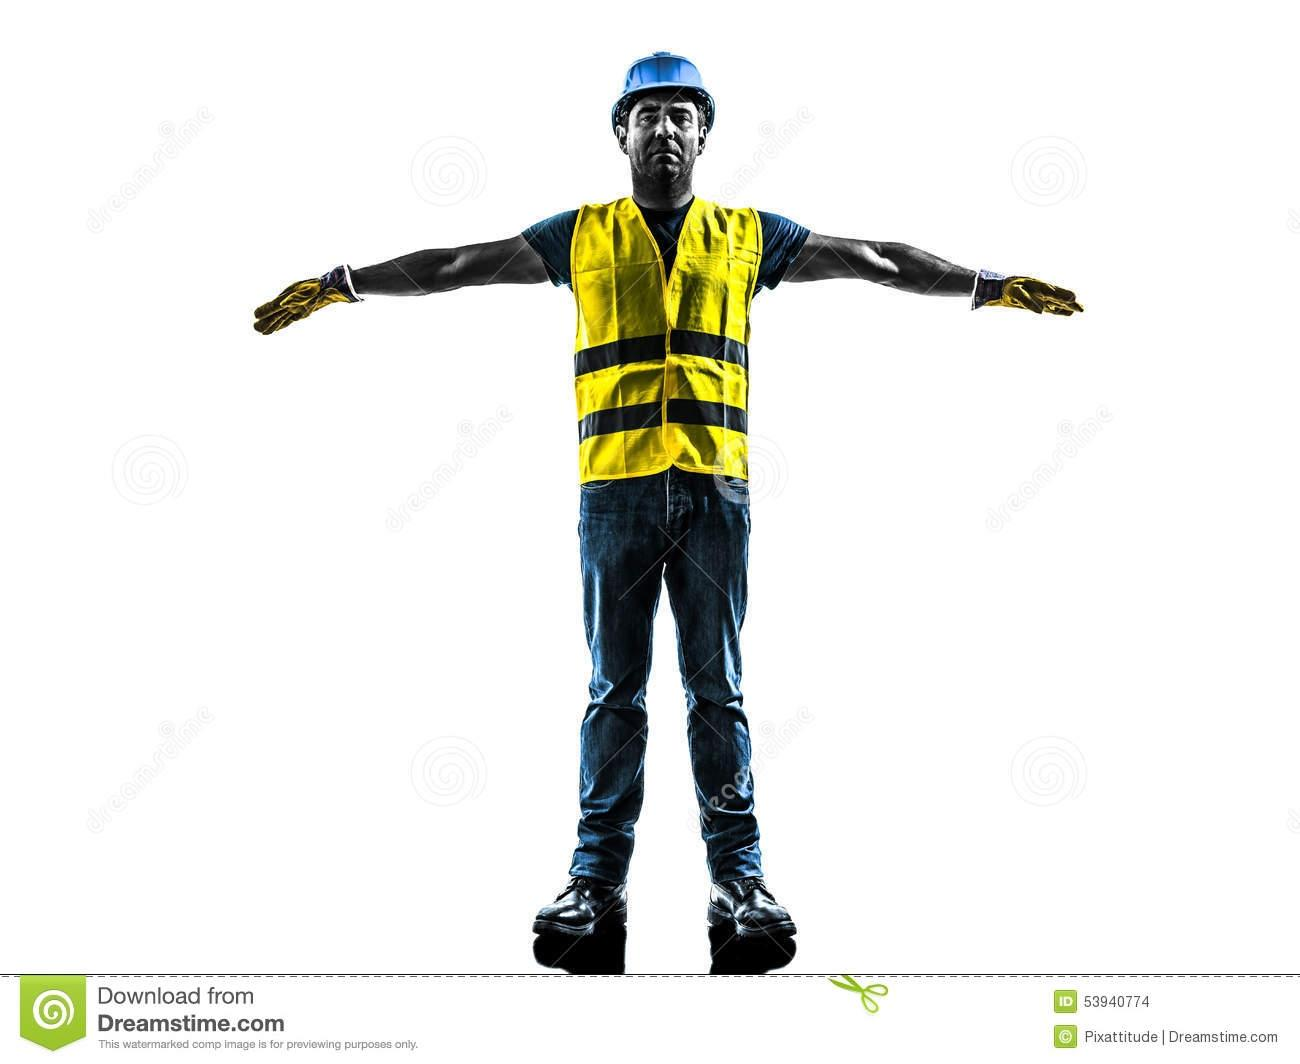helmet: (610, 48, 716, 138)
wear: (578, 204, 751, 474)
